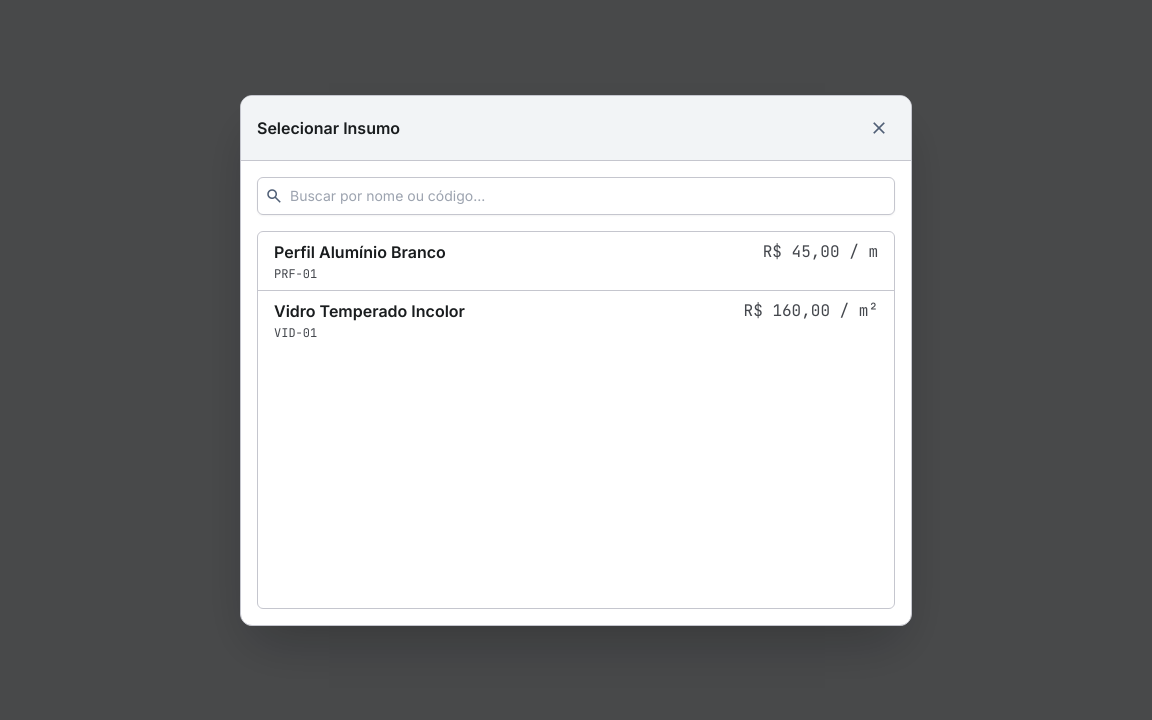
Test: MaterialPickerModal Component › Técnica: Transição e Filtro - deve filtrar lista com base no termo de busca
The width and height of the screenshot is (1152, 720).
Step 1. Type "vidro" into the field with placeholder "Buscar por nome ou código..." → (576, 196), box [257,176,895,214]
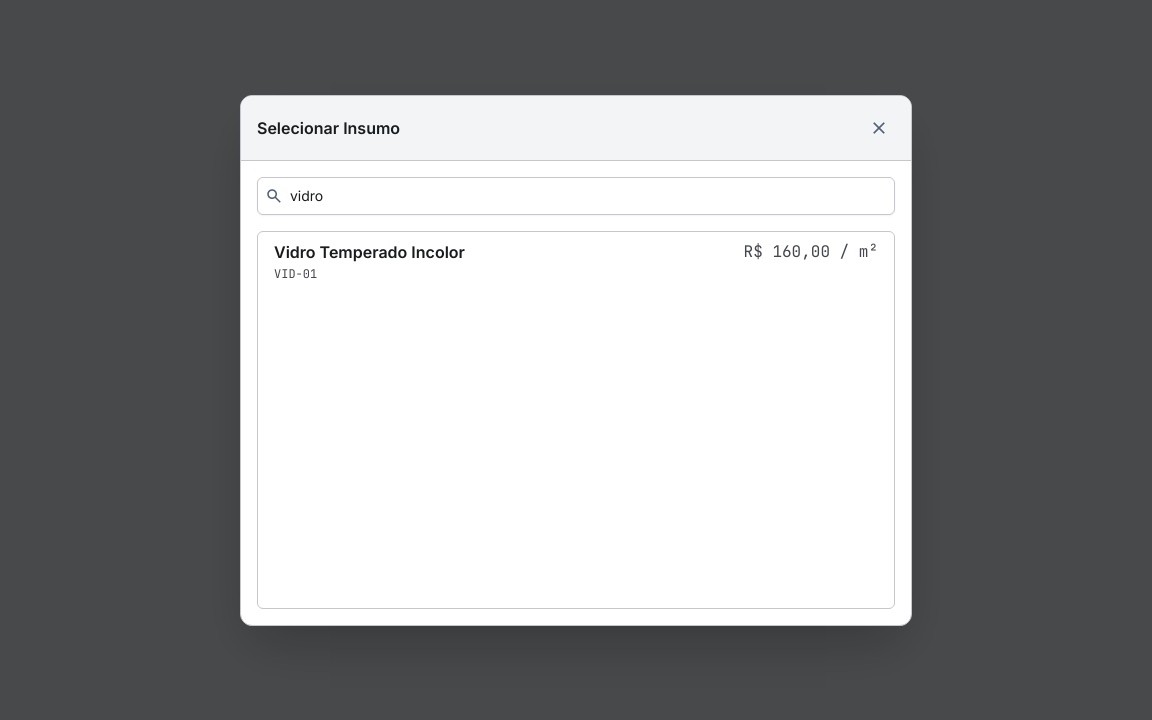
Expected: the text "Vidro Temperado Incolor" is shown, [274,240,465,264]
Result: the button "Perfil Alumínio Branco" is gone
